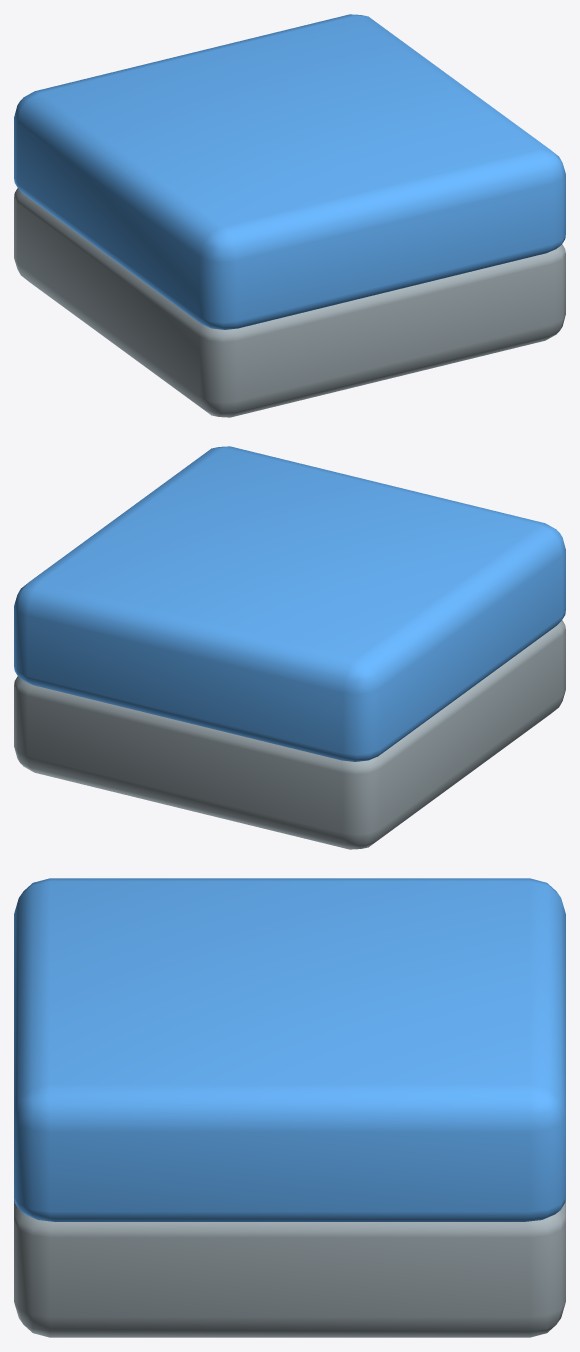
File: tileLow_teamBlue-col.glb
The picture shows the model from 3 angles, top to bottom: view 1: azimuth 30°, elevation 25°; view 2: azimuth 150°, elevation 25°; view 3: azimuth 270°, elevation 25°; orthographic projection. The views are drawn at different scales.
Visible parts, largest first — view 1: tileLow_teamBlue-col; view 2: tileLow_teamBlue-col; view 3: tileLow_teamBlue-col.
Boxes of the visible parts, x1,y1,x2,y2 form: tileLow_teamBlue-col: [14, 14, 565, 417]; tileLow_teamBlue-col: [14, 446, 565, 849]; tileLow_teamBlue-col: [14, 878, 565, 1337].
Bounding box in the file's own units: 2 × 1 × 2.
